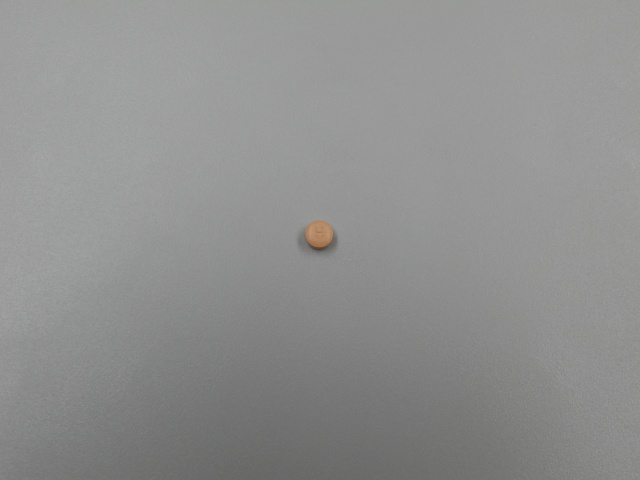H: (312, 224, 328, 241)
